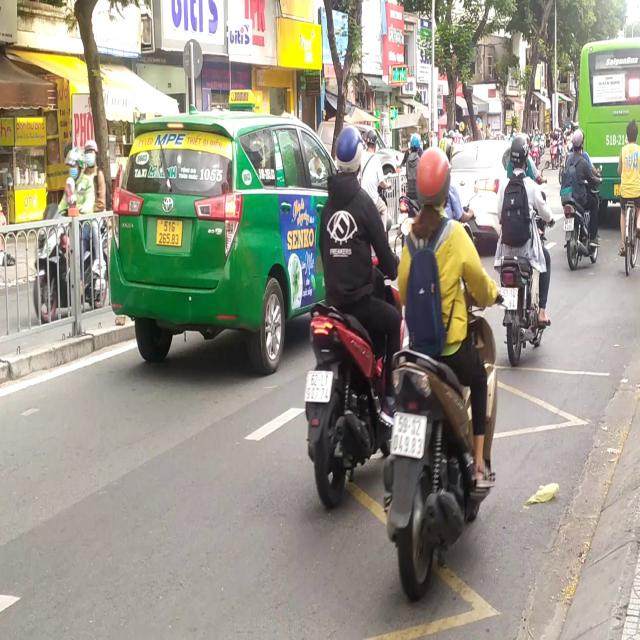bien_trang: (388, 408, 429, 460), (302, 361, 332, 406)
bien_vang: (155, 211, 184, 248)
